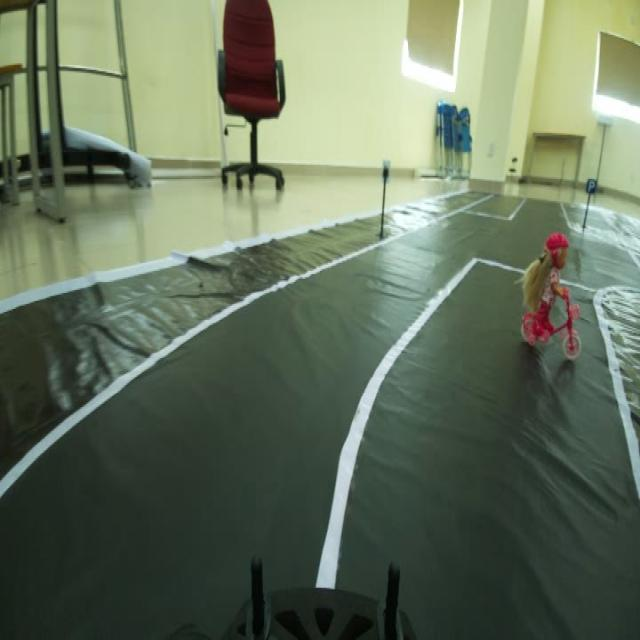pedestrian: (517, 203, 583, 369)
